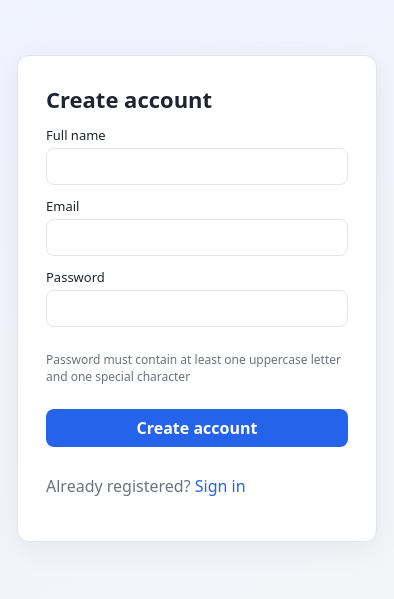
Test: RegisterPage › shows an error when registration succeeds but the follow-up login fails
Step 1. Type "New User" into the field labelled "Full name" → (197, 166), box [46,148,348,184]
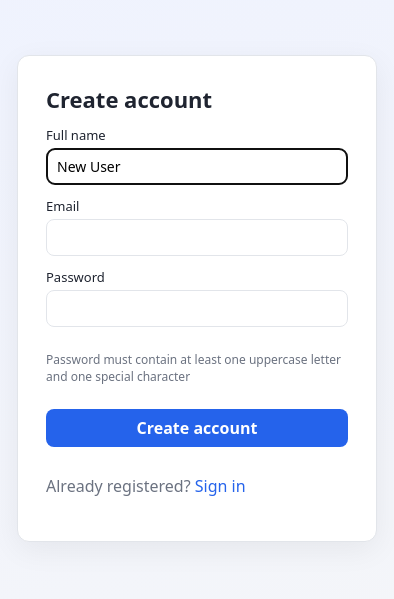
Step 2. Type "new@example.com" into the field labelled "Email" → (197, 237), box [46,218,348,256]
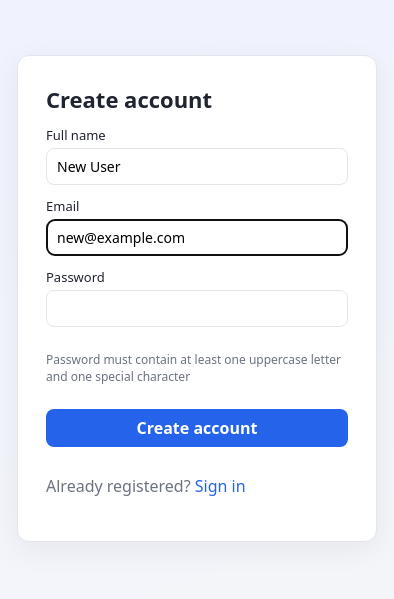
Step 3. Type "Password123!" into the password field labelled "Password" → (197, 308), box [46,290,348,326]
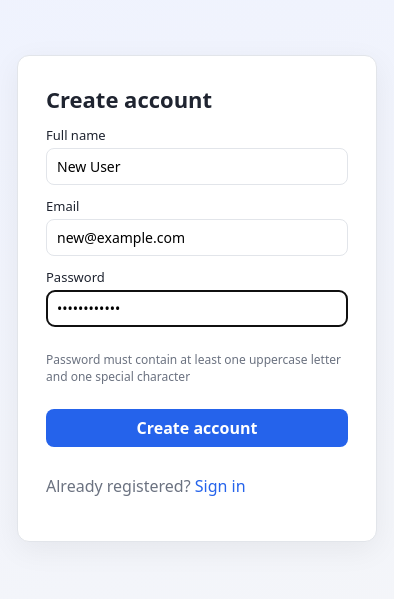
Step 4. Click the button "Create account" → (197, 428), box [46,408,348,446]
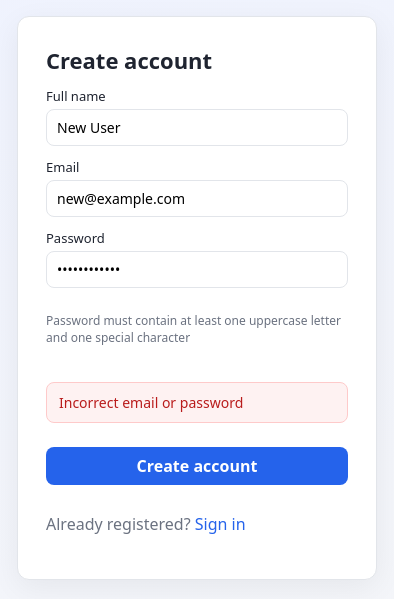
Expected: the text "Incorrect email or password" is shown, [46,382,348,423]
